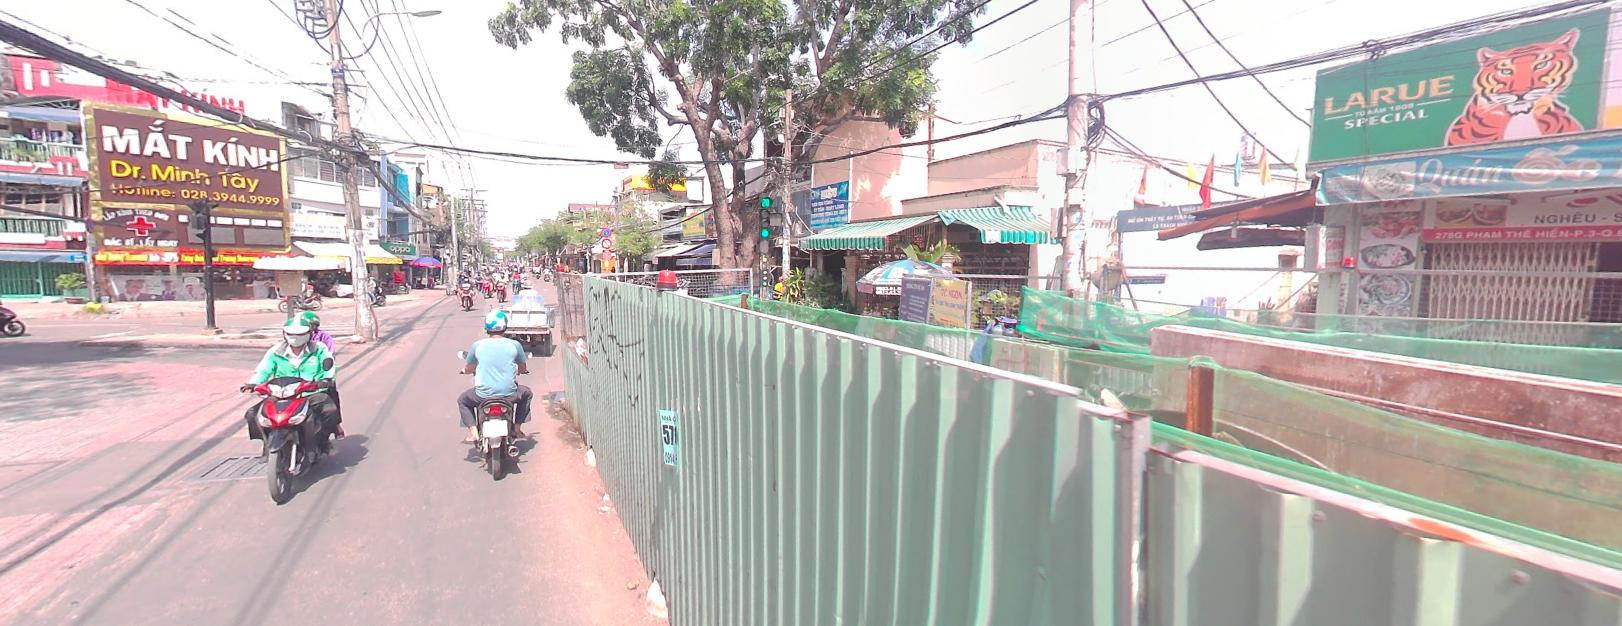Cam con lai: (601, 237, 611, 246)
Cam dung va do: (601, 226, 611, 235)
